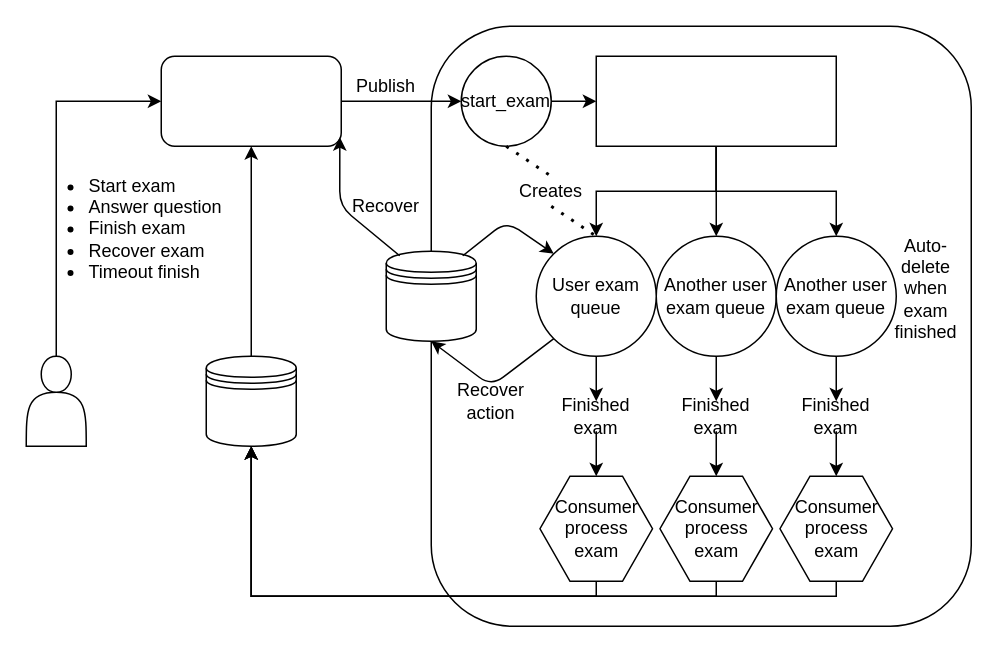
Some shapes in this 998 by 653 pixel diagram are drawn without their labels. Each missing label, with the box of its shape:
API: (160, 55, 341, 146)
API database: (205, 355, 296, 446)
Direct Exchange: (595, 55, 836, 146)
Redis: (385, 250, 476, 341)
